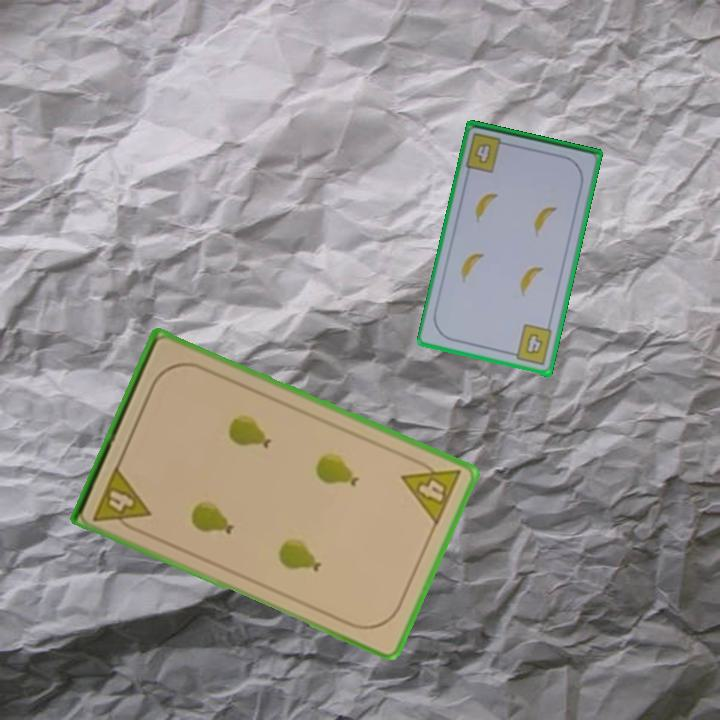4b: (506, 321, 555, 369), (471, 140, 495, 167)
4p: (398, 452, 464, 529), (89, 462, 154, 536)
